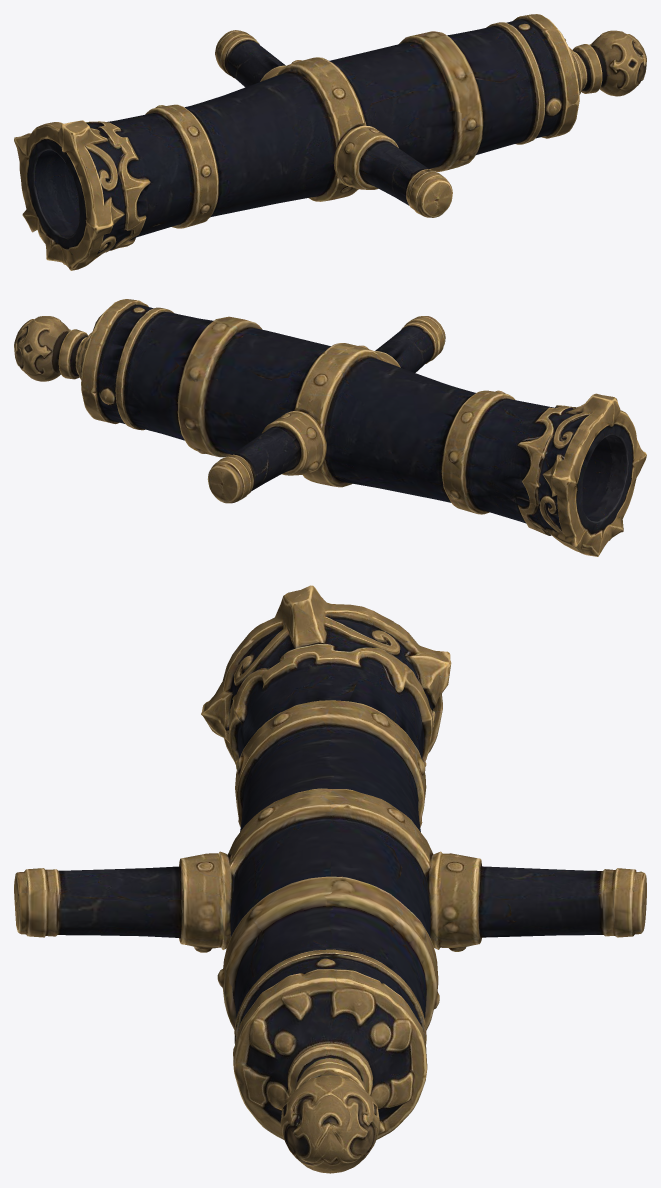
File: cannon_barrel.glb
The picture shows the model from 3 angles, top to bottom: view 1: azimuth 30°, elevation 25°; view 2: azimuth 150°, elevation 25°; view 3: azimuth 270°, elevation 25°; orthographic projection. The views are drawn at different scales.
Size of the model in its own units: 1.89 by 0.4465 by 1.15.
Materials: 1 (1 with a texture image).
